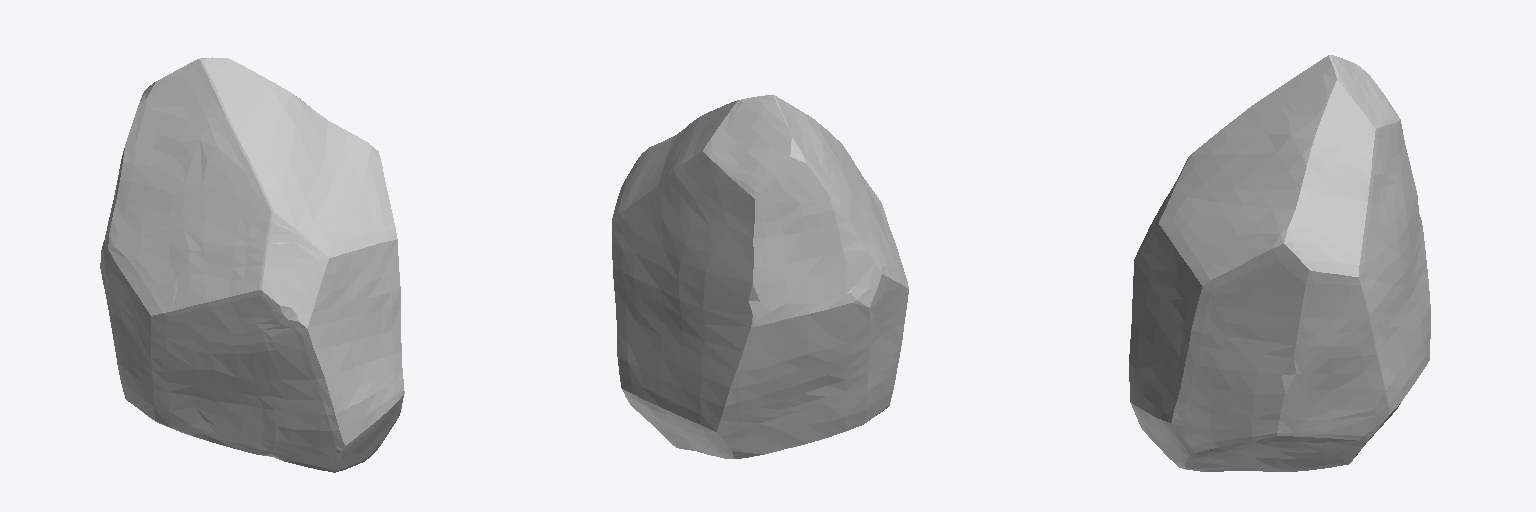
The model's file is rock2.obj.
3 views of the same model, side by side, from view 1: azimuth 30°, elevation 25°; view 2: azimuth 150°, elevation 25°; view 3: azimuth 270°, elevation 25° (orthographic).
Parts seen in each view (by area): view 1: ST_Stone5; view 2: ST_Stone5; view 3: ST_Stone5.
Part boxes in pixels (x1,y1,x2,y2): ST_Stone5: (100,57,404,472); ST_Stone5: (612,95,908,458); ST_Stone5: (1129,55,1430,471).
Bounding box in the file's own units: 1.03 × 1.4 × 1.02.